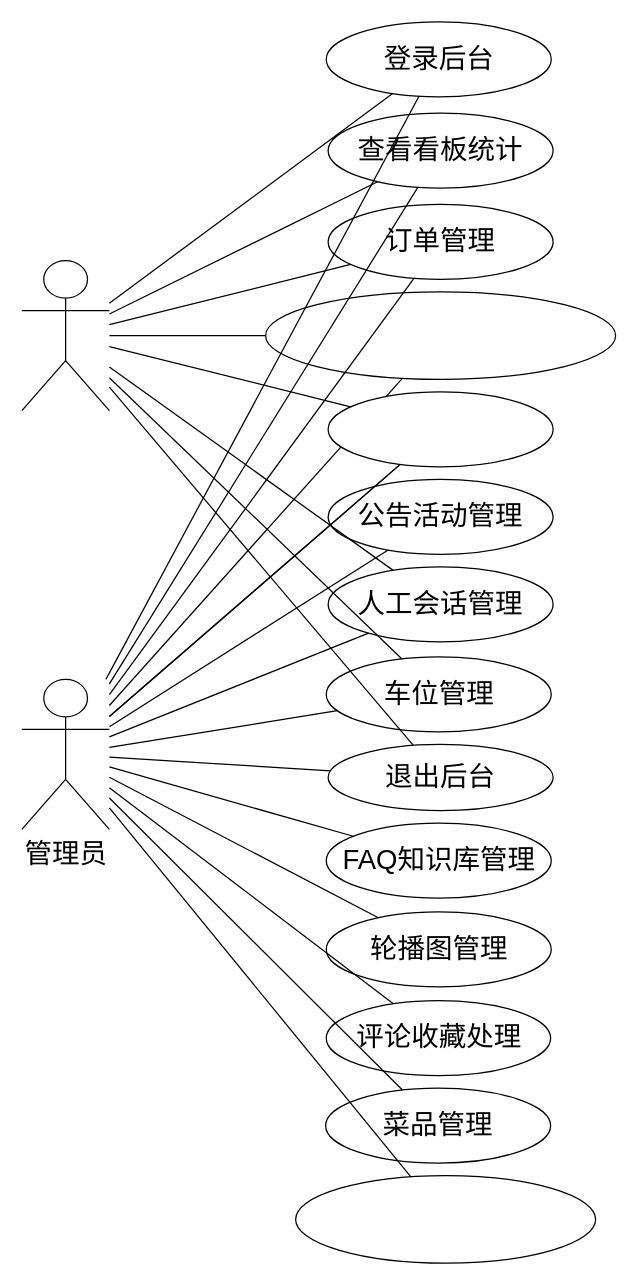
The diagram is 638 pixels wide and 1285 high, and some of its shapes have lost their labels. Here are the shapes that lost their labels. From the top down, the box of each, then its label:
(21, 259, 109, 411): 员工
(264, 291, 616, 379): 餐厅预约管理 （核销/退费/时段配置）
(327, 391, 553, 467): 餐厅信息管理
(294, 1174, 596, 1263): 人员管理 （用户/员工/管理员）
